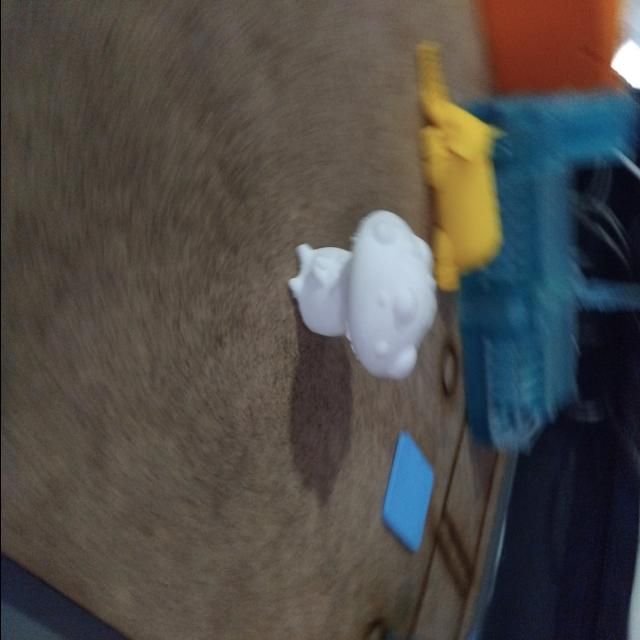Hongo: (275, 194, 442, 384)
